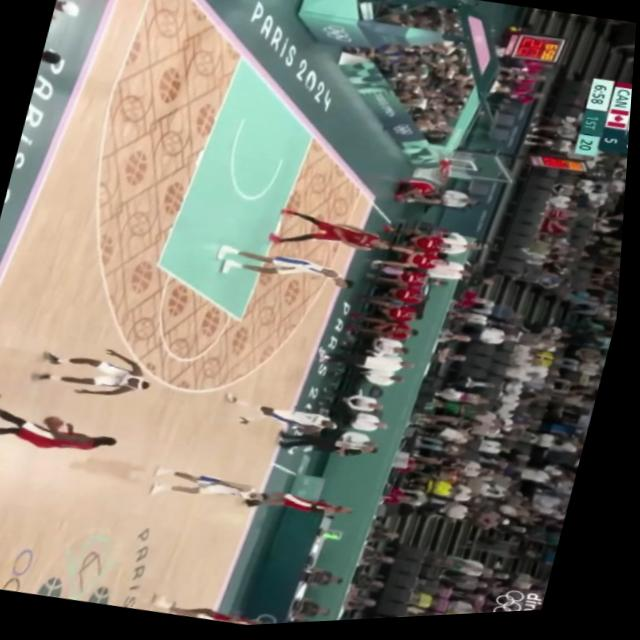ball_handler: (0, 384, 132, 466)
